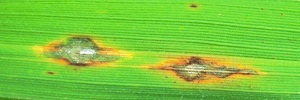RiceBlast: (29, 33, 135, 75), (142, 52, 265, 87)
